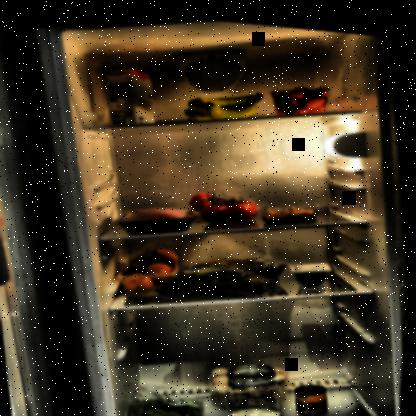banana: (180, 79, 268, 123)
corn: (295, 374, 334, 413)
green_beans: (118, 379, 219, 415)
ground_beef: (113, 194, 203, 239)
mushrooms: (208, 352, 295, 405)
onion: (113, 239, 186, 300)
shrimp: (262, 195, 316, 222)
spinach: (154, 235, 294, 309)
strawberries: (267, 72, 335, 117)
tomato: (188, 176, 264, 226)
